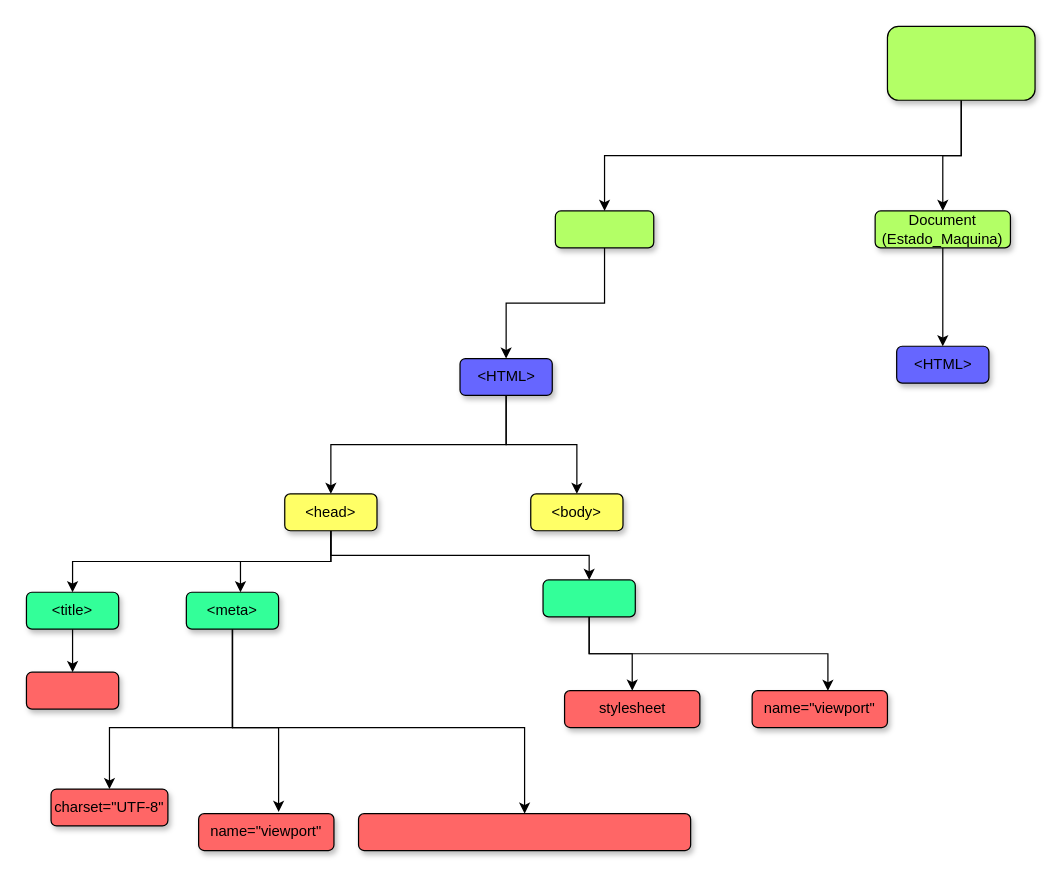
Image size: 1064x881. Some labels were removed from this diagram. Each missing label, with the centre of its shape:
"Login": the point at 73,692
<link rel>: the point at 590,599
content="width=device-width, initial-scale=1.0": the point at 525,833
Document: the point at 961,64
Document (Login): the point at 605,230
